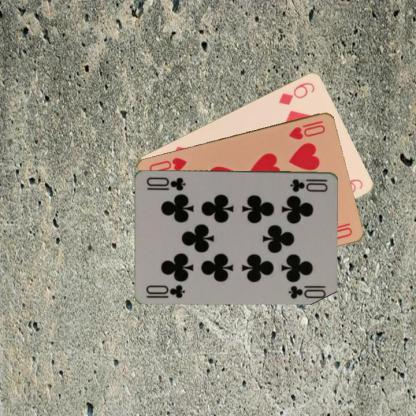10c: (143, 282, 187, 300), (288, 176, 330, 193)
10h: (286, 118, 326, 140)
6d: (276, 79, 316, 106)
